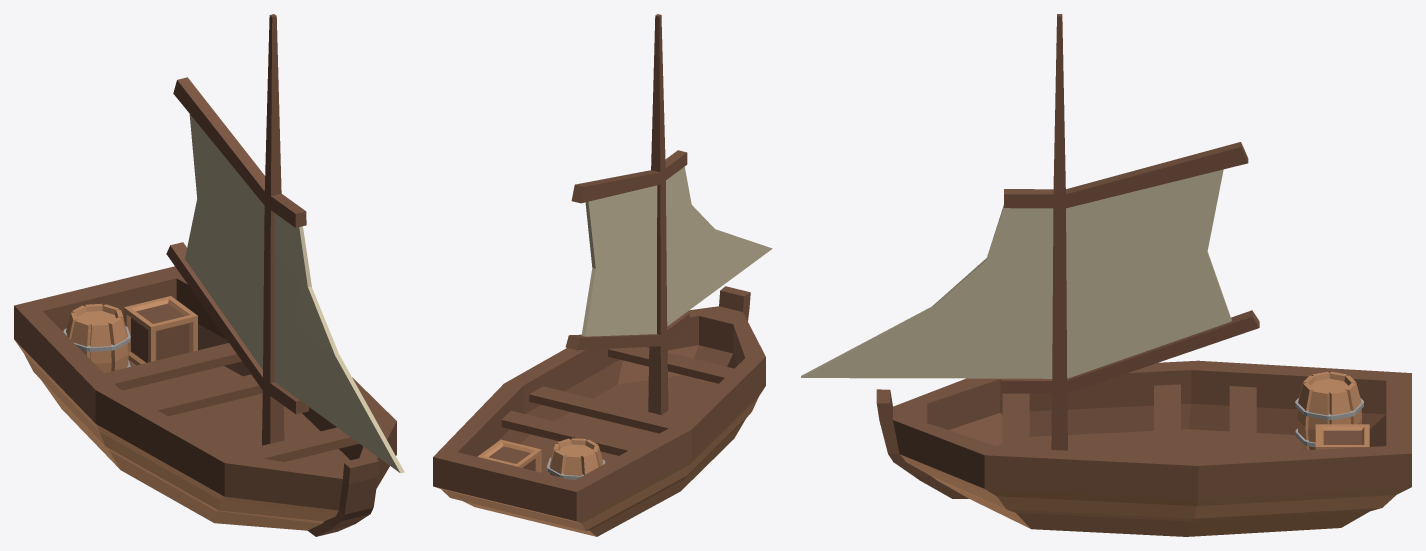
The model's file is BoatWSail.glb.
3 renders of one model, left to right at view 1: azimuth 30°, elevation 25°; view 2: azimuth 150°, elevation 25°; view 3: azimuth 270°, elevation 25°, orthographic. The views are drawn at different scales.
Visible parts, largest first — view 1: Boat, Sail; view 2: Boat, Sail; view 3: Boat, Sail.
Part boxes in pixels (left/top/right/bottom): Boat: left=14, top=266, right=396, bottom=536; Sail: left=166, top=14, right=404, bottom=473; Boat: left=433, top=286, right=765, bottom=536; Sail: left=565, top=14, right=772, bottom=415; Boat: left=876, top=360, right=1411, bottom=536; Sail: left=801, top=14, right=1259, bottom=450.
Bounding box in the file's own units: 0.4032 × 0.8547 × 0.989.
